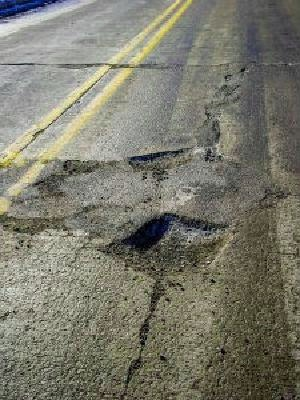pothole: (100, 211, 235, 281), (0, 209, 68, 236), (124, 145, 194, 170), (59, 156, 104, 174)
